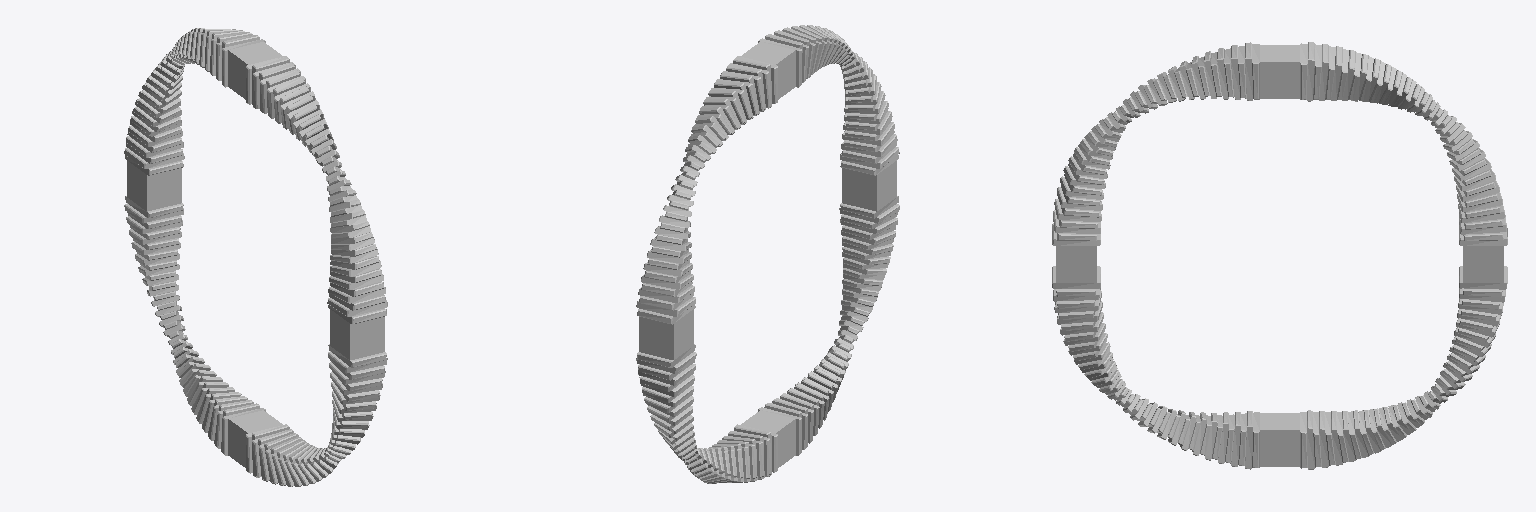
The model's file is Twister2.obj.
3 views of the same model, side by side, from view 1: azimuth 30°, elevation 25°; view 2: azimuth 150°, elevation 25°; view 3: azimuth 270°, elevation 25° (orthographic).
Parts seen in each view (by area): view 1: Cube.003; view 2: Cube.003; view 3: Cube.003.
Boxes of the visible parts, box(x1,y1,x2,y2) form: Cube.003: box(124, 28, 387, 486); Cube.003: box(636, 25, 899, 483); Cube.003: box(1052, 42, 1507, 469).
Size of the model in its own units: 1.2 by 11.19 by 11.2.